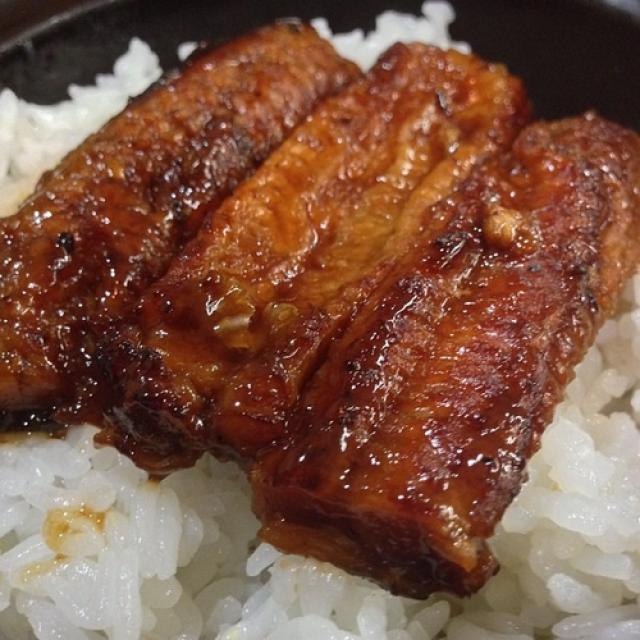熟制海鲜: (4, 8, 634, 613)
